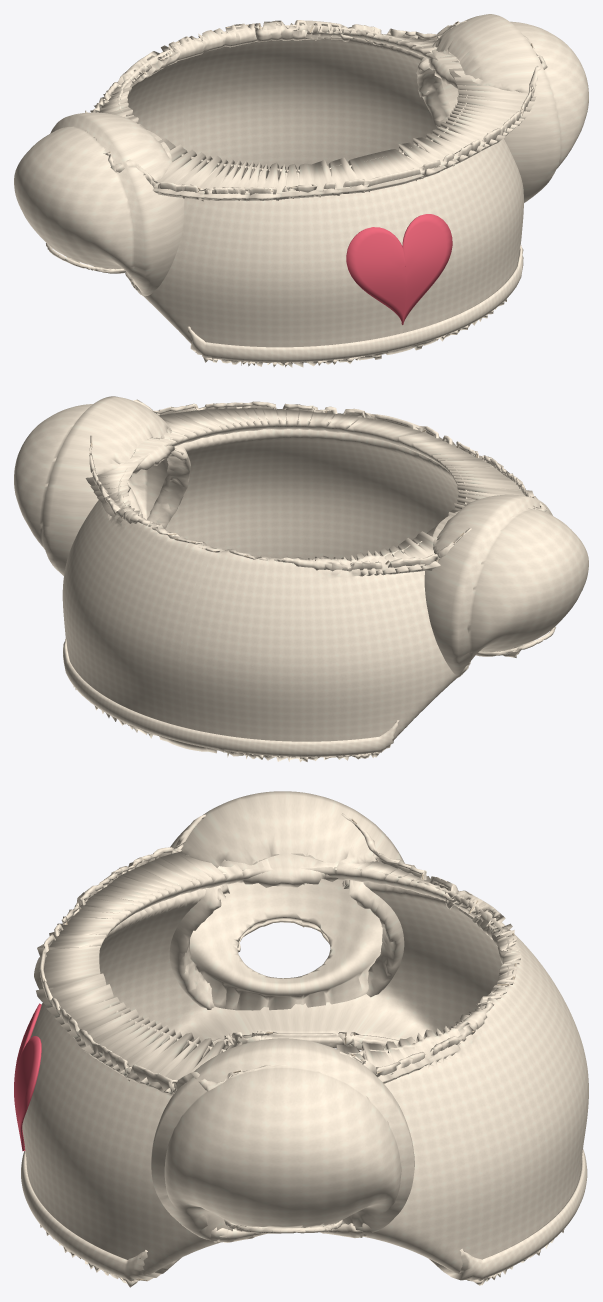
File: original_surface_shirt_pig.glb
The picture shows the model from 3 angles, top to bottom: view 1: azimuth 30°, elevation 25°; view 2: azimuth 150°, elevation 25°; view 3: azimuth 270°, elevation 25°; orthographic projection. The views are drawn at different scales.
Parts seen in each view (by area): view 1: Manga adaptada - Camiseta original continua, Dobladillo ancho adaptado, CorazÃ³n bordado, Dobladillo ancho adaptado.001; view 2: Manga adaptada - Camiseta original continua, Dobladillo ancho adaptado.001, Dobladillo ancho adaptado; view 3: Manga adaptada - Camiseta original continua, Dobladillo ancho adaptado, Dobladillo ancho adaptado.001, CorazÃ³n bordado, Dobladillo ancho adaptado.003.
Part boxes in pixels (bbox=[...]): Manga adaptada - Camiseta original continua: bbox=[14, 14, 588, 367]; Dobladillo ancho adaptado: bbox=[84, 20, 547, 201]; CorazÃ³n bordado: bbox=[346, 214, 452, 324]; Dobladillo ancho adaptado.001: bbox=[67, 245, 523, 362]; Manga adaptada - Camiseta original continua: bbox=[14, 396, 588, 761]; Dobladillo ancho adaptado.001: bbox=[63, 639, 522, 756]; Dobladillo ancho adaptado: bbox=[89, 399, 547, 574]; Manga adaptada - Camiseta original continua: bbox=[22, 791, 588, 1287]; Dobladillo ancho adaptado: bbox=[39, 813, 520, 1096]; Dobladillo ancho adaptado.001: bbox=[21, 1030, 587, 1281]; CorazÃ³n bordado: bbox=[14, 1003, 41, 1151]; Dobladillo ancho adaptado.003: bbox=[224, 1219, 342, 1233].
Size of the model in its own units: 0.8313 by 0.309 by 0.5919.
3 materials, 1 textured.
